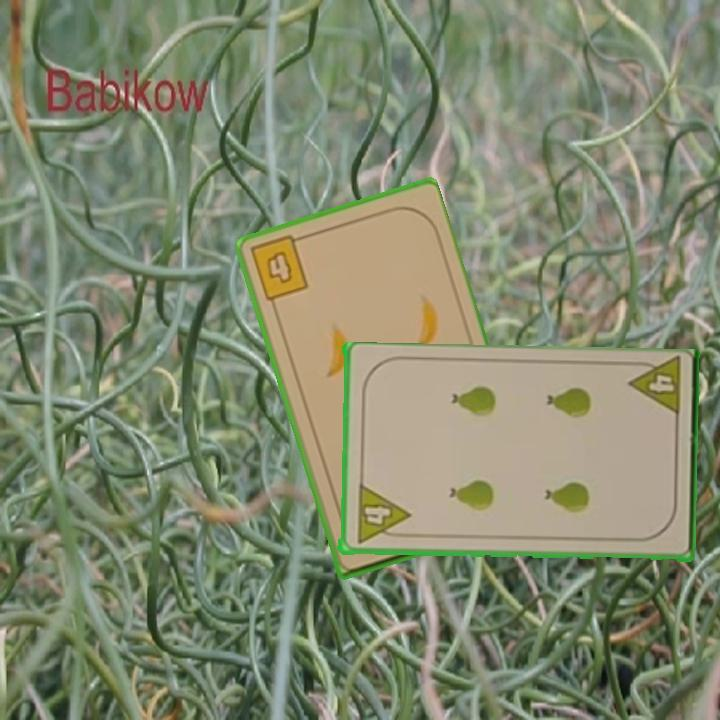4b: (246, 231, 311, 305)
4p: (352, 482, 411, 547), (625, 357, 684, 422)
